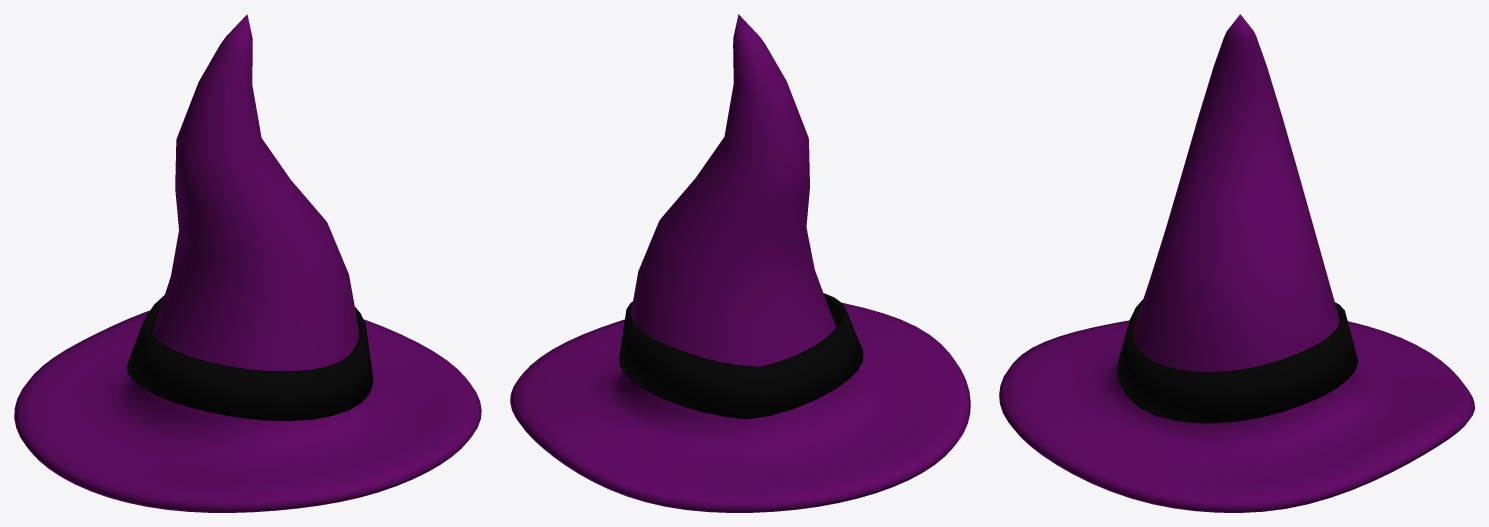
File: Witch_Hat.glb
3 renders of one model, left to right at view 1: azimuth 30°, elevation 25°; view 2: azimuth 150°, elevation 25°; view 3: azimuth 270°, elevation 25°, orthographic.
Parts seen in each view (by area): view 1: Circle, Circle.001; view 2: Circle, Circle.001; view 3: Circle, Circle.001.
Part boxes in pixels (box(x1,y1,x2,y2)): Circle: box(14, 14, 481, 512); Circle.001: box(127, 295, 373, 421); Circle: box(510, 14, 970, 512); Circle.001: box(619, 293, 863, 419); Circle: box(999, 14, 1474, 512); Circle.001: box(1117, 299, 1358, 423).
Size of the model in its own units: 1.97 by 1.9 by 2.03.
